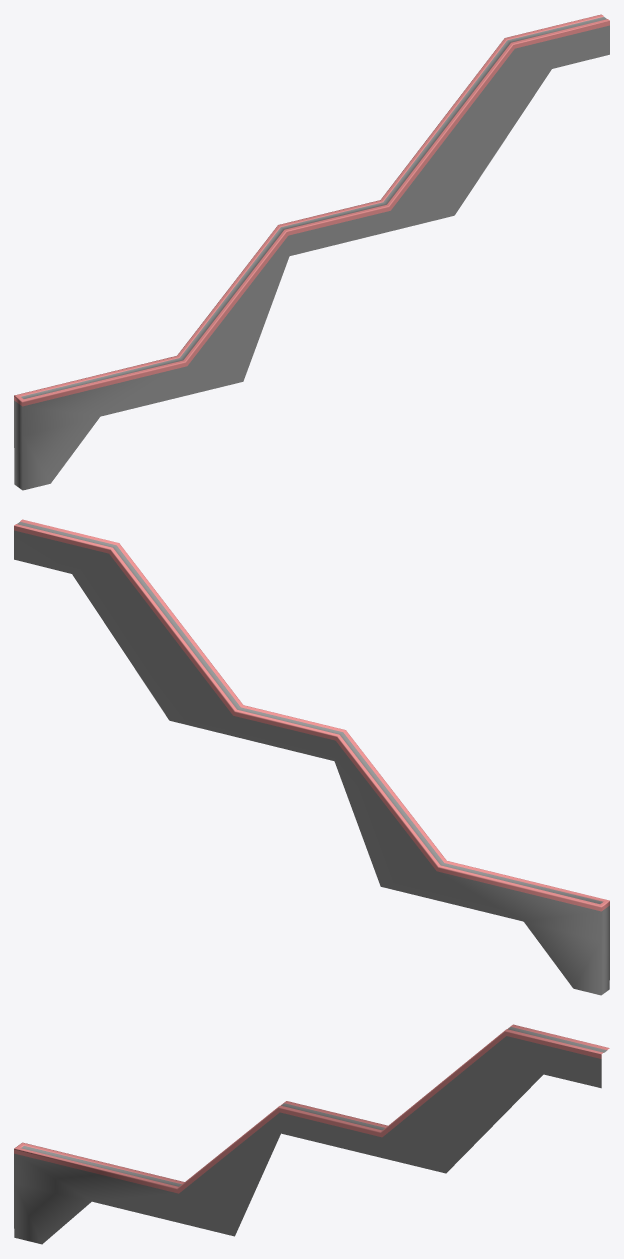
Rendered from FNI_StaircaseWalls_01.gltf.
3 renders of one model, top to bottom at view 1: azimuth 30°, elevation 25°; view 2: azimuth 150°, elevation 25°; view 3: azimuth 330°, elevation 25°, orthographic.
Parts seen in each view (by area): view 1: FNI_StaircaseWalls_01; view 2: FNI_StaircaseWalls_01; view 3: FNI_StaircaseWalls_01.
Boxes of the visible parts, x1=… form: FNI_StaircaseWalls_01: x1=14, y1=14, x2=609, y2=490; FNI_StaircaseWalls_01: x1=14, y1=519, x2=609, y2=995; FNI_StaircaseWalls_01: x1=14, y1=1024, x2=609, y2=1244.
Bounding box in the file's own units: 93.51 × 49.67 × 2.34.
